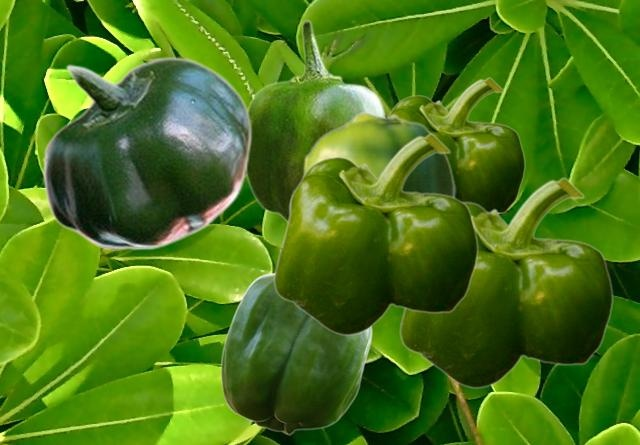bell_pepper: (399, 177, 612, 388), (273, 133, 477, 335), (41, 56, 251, 249), (246, 19, 386, 223), (220, 272, 371, 434), (388, 77, 524, 214), (302, 111, 455, 196)
